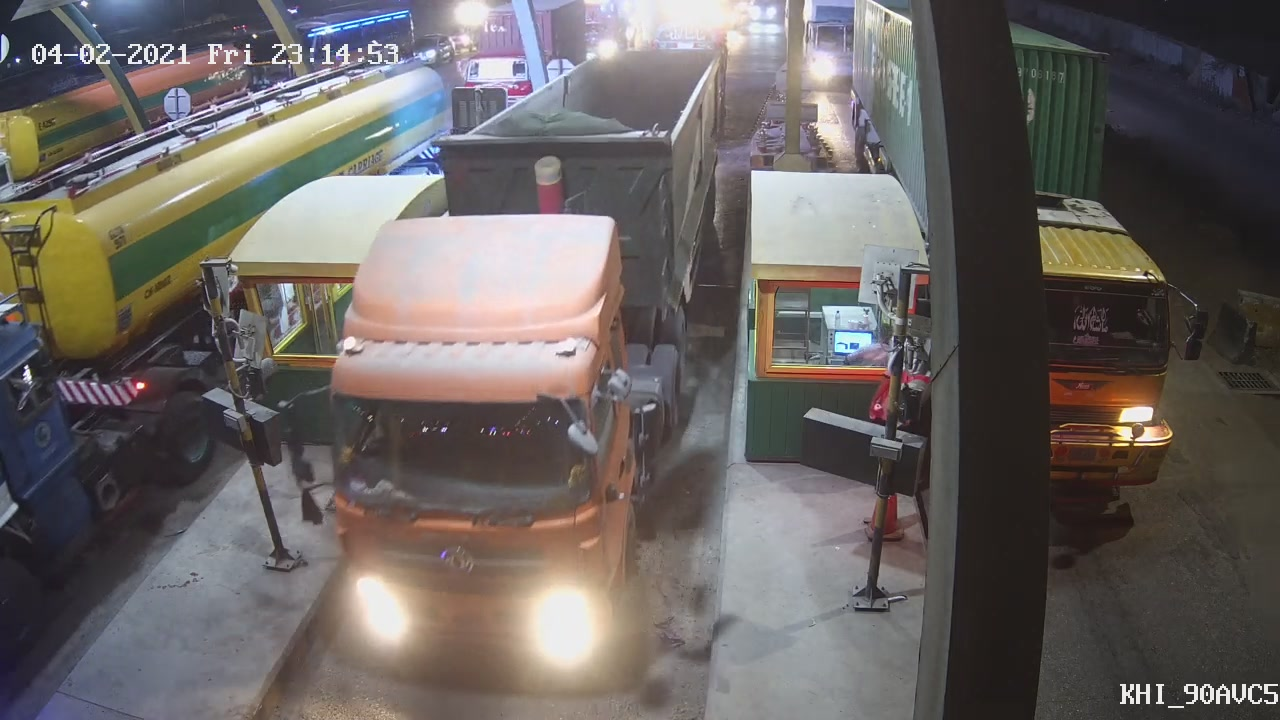F6: (280, 36, 731, 674)
